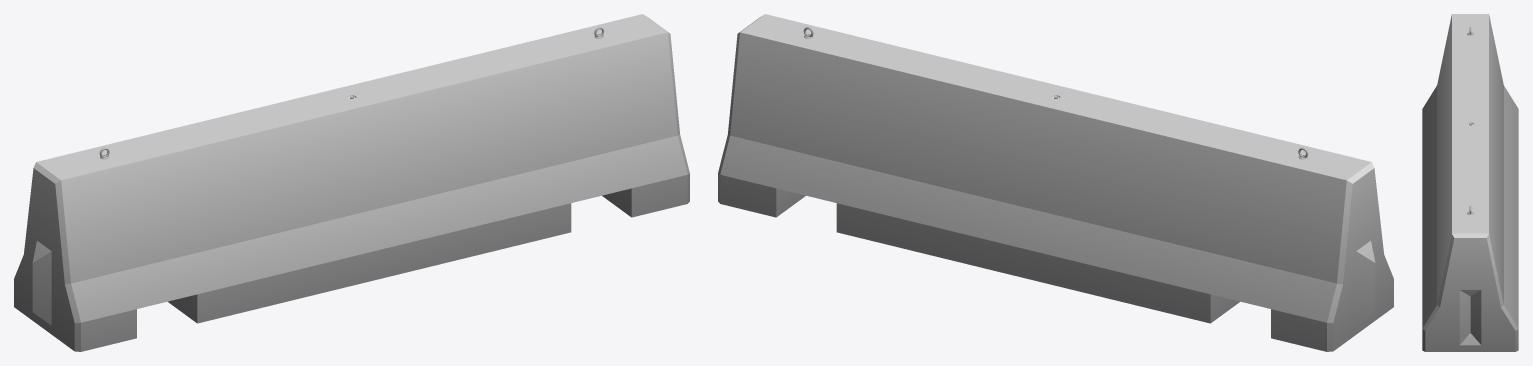
The model's file is concrete_jersey_barrier_01_large.glb.
The picture shows the model from 3 angles, left to right: view 1: azimuth 30°, elevation 25°; view 2: azimuth 150°, elevation 25°; view 3: azimuth 270°, elevation 25°; orthographic projection. The views are drawn at different scales.
Visible parts, largest first — view 1: concrete_jersey_barrier_01_large; view 2: concrete_jersey_barrier_01_large; view 3: concrete_jersey_barrier_01_large.
Part boxes in pixels (x1=…): concrete_jersey_barrier_01_large: x1=14, y1=14, x2=689, y2=351; concrete_jersey_barrier_01_large: x1=718, y1=14, x2=1393, y2=351; concrete_jersey_barrier_01_large: x1=1422, y1=14, x2=1518, y2=351.
Bounding box in the file's own units: 3.47 × 0.88 × 0.62.
Materials: 2 (2 with a texture image).
